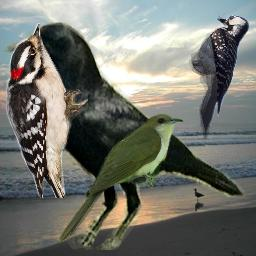Crow: (3, 22, 245, 250)
Cuckoo: (59, 113, 185, 244)
Woodpecker: (6, 23, 88, 198), (189, 9, 249, 141)
